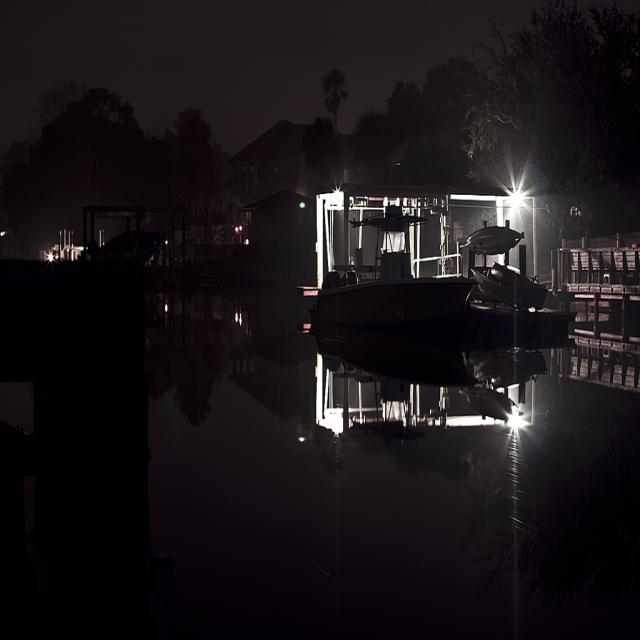Boat: (308, 179, 525, 398), (469, 211, 582, 347)
